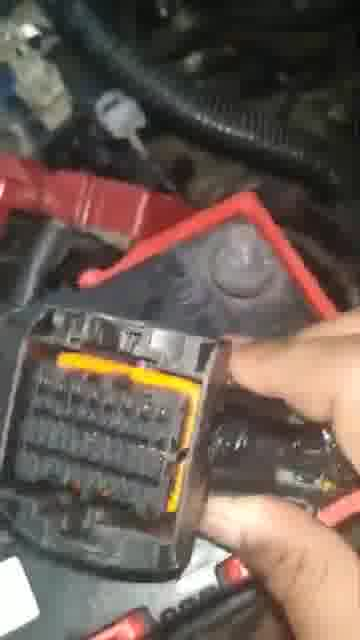connector: (2, 304, 230, 583)
